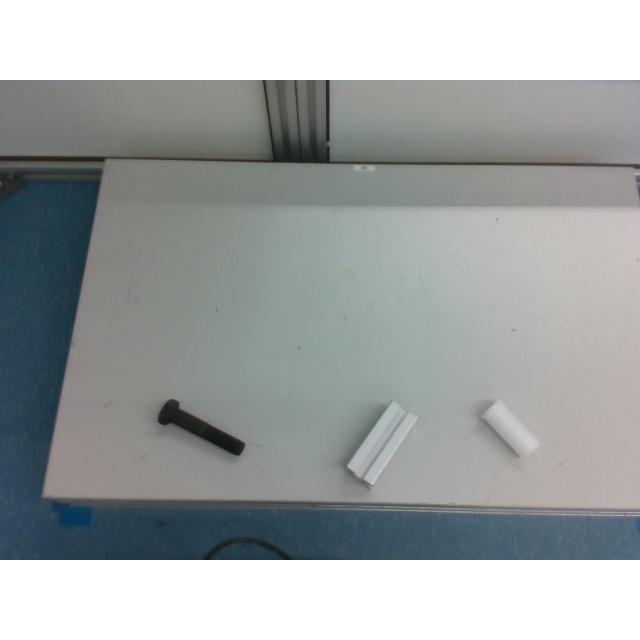M20_100: (158, 399, 246, 457)
S40_40_G: (348, 400, 417, 486)
Spacer: (481, 400, 541, 458)
